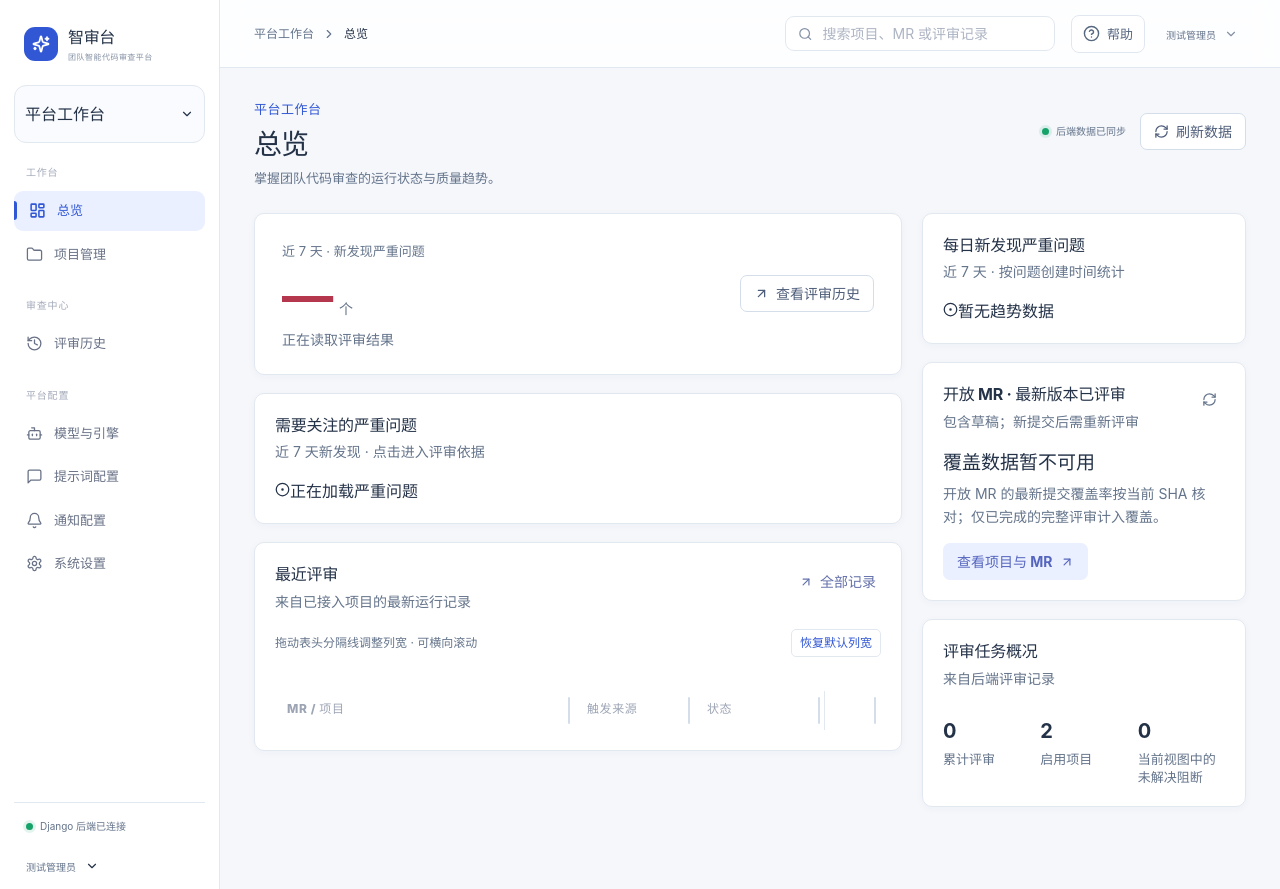
Test: keeps 通知配置 unavailable after current project configuration fails to load
This screenshot has width=1280, height=889.
Expected: the text "Django 后端已连接" is shown, top-left (26, 820), bottom-right (126, 832)
Click the button with aria-label "切换项目".
click(110, 114)  # box top-left (14, 85), bottom-right (205, 143)
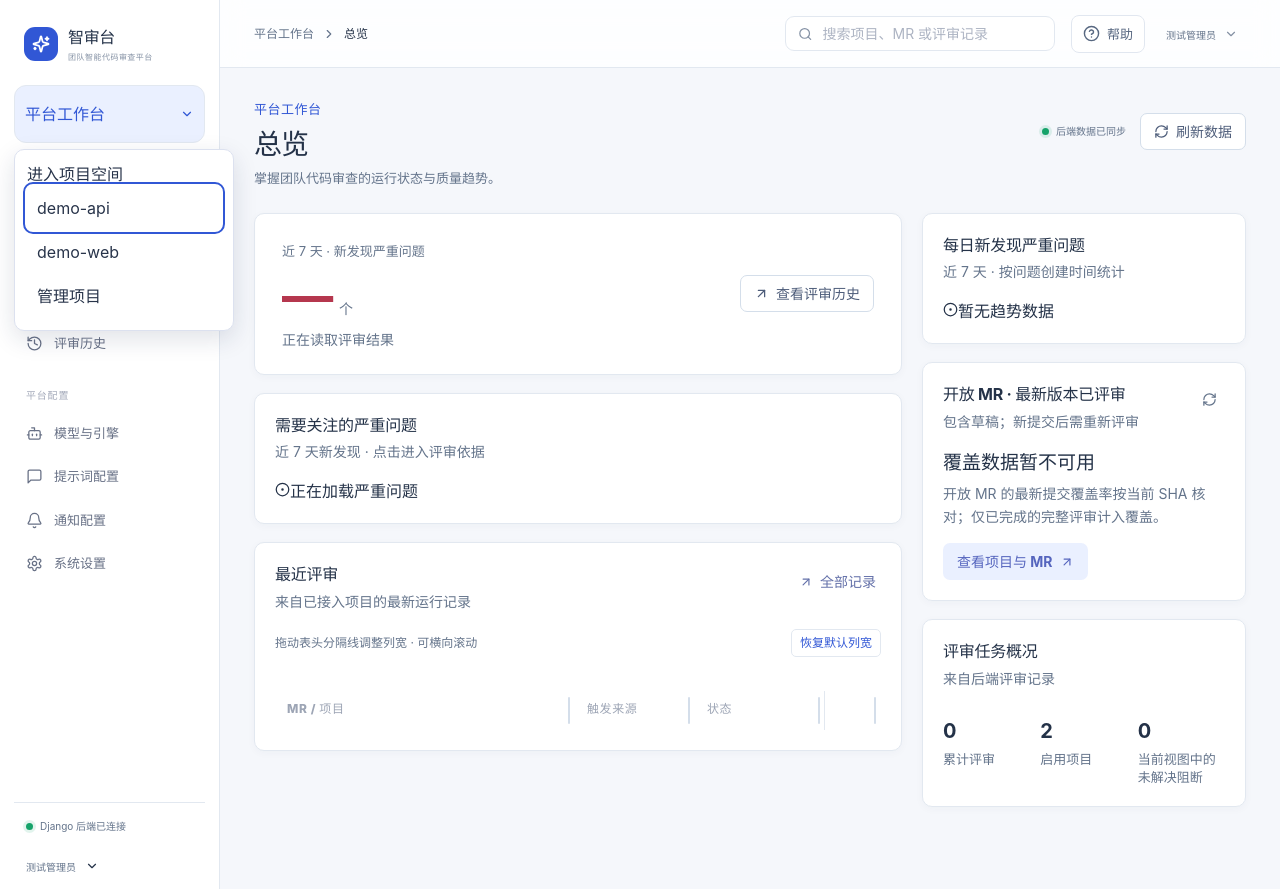
Click the button "demo-api".
click(124, 208)  # box top-left (27, 186), bottom-right (221, 230)
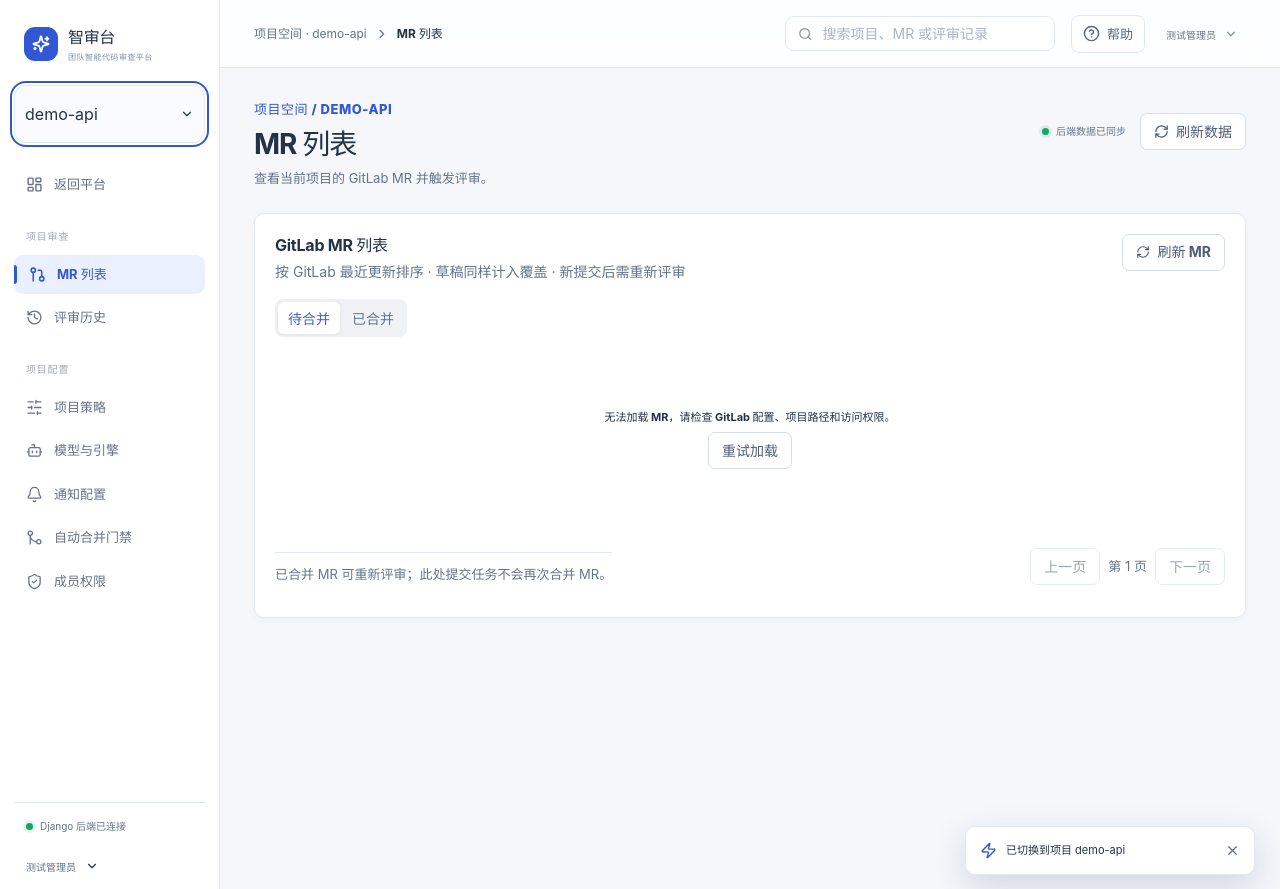
Click the button "通知配置".
click(110, 494)  # box top-left (14, 474), bottom-right (205, 514)
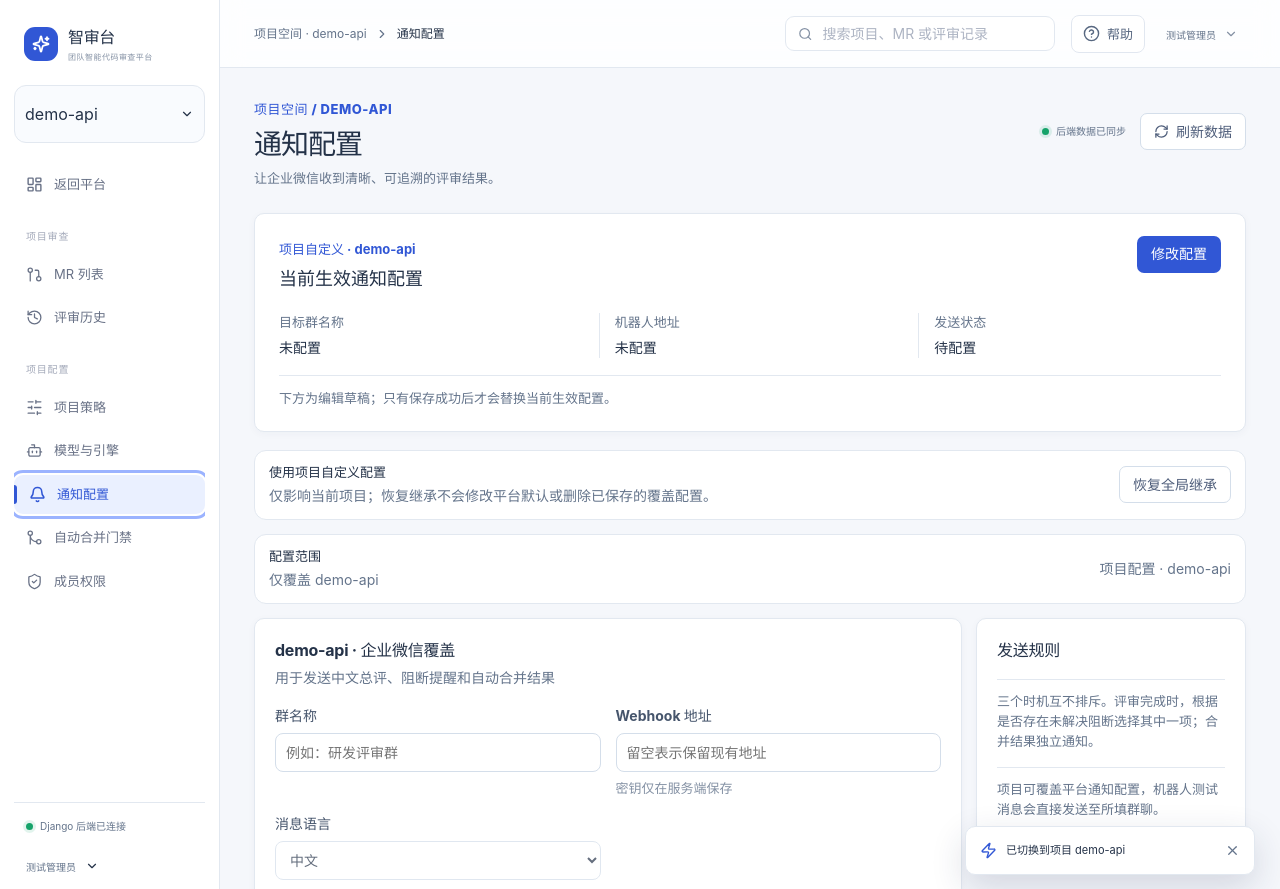
Click the button with aria-label "切换项目".
click(110, 114)  # box top-left (14, 85), bottom-right (205, 143)
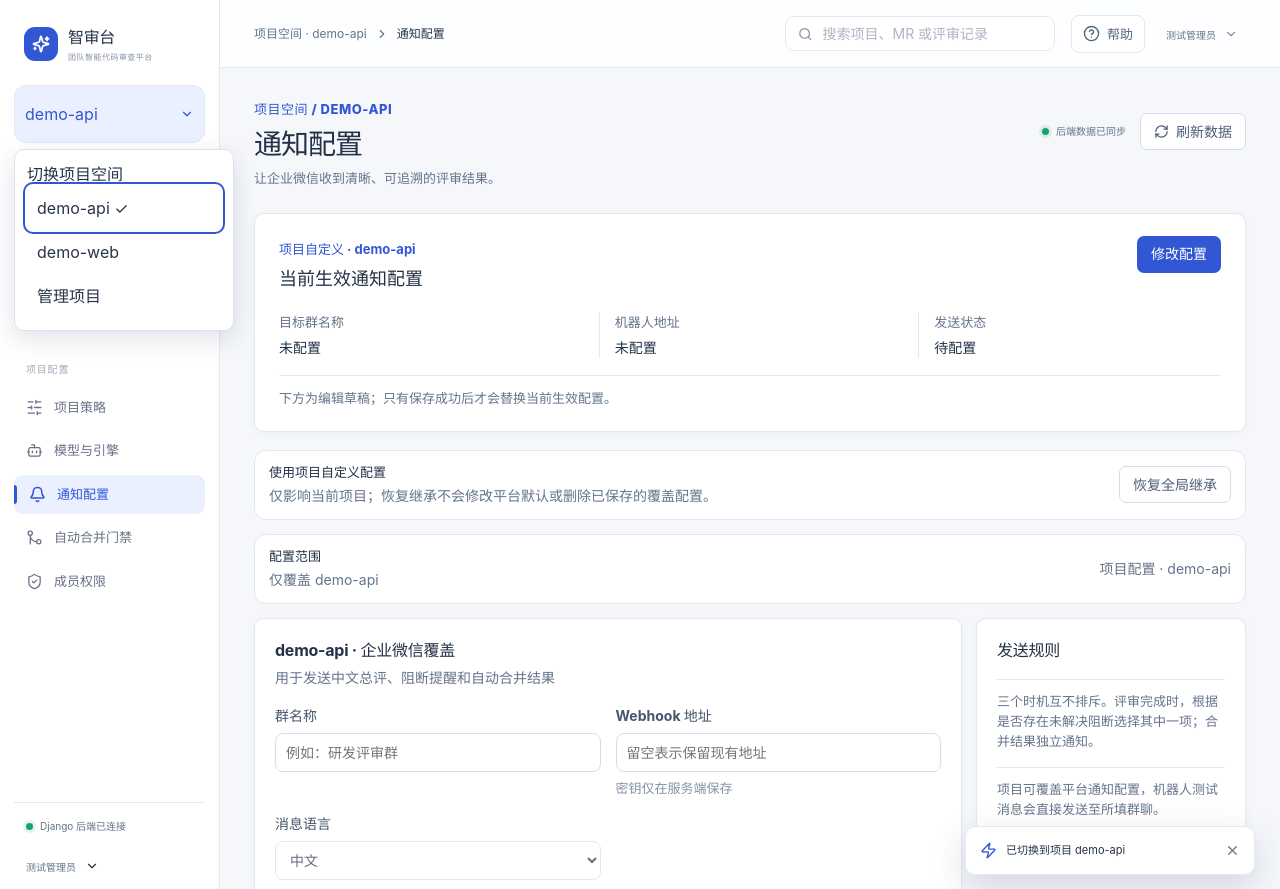
Click the button "demo-web".
click(124, 252)  # box top-left (27, 230), bottom-right (221, 274)
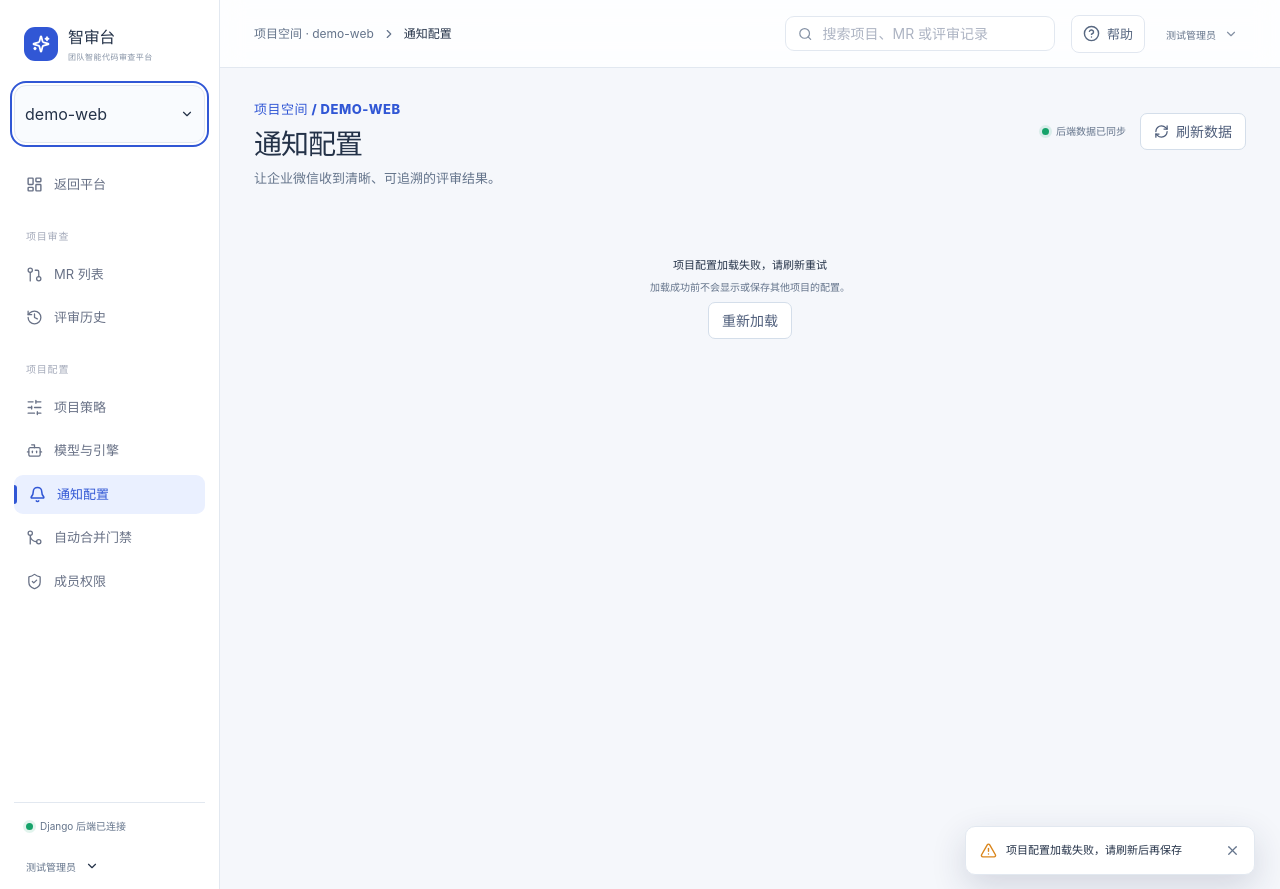
Now the text "项目配置加载失败，请刷新重试" is shown, box top-left (673, 256), bottom-right (827, 273)
